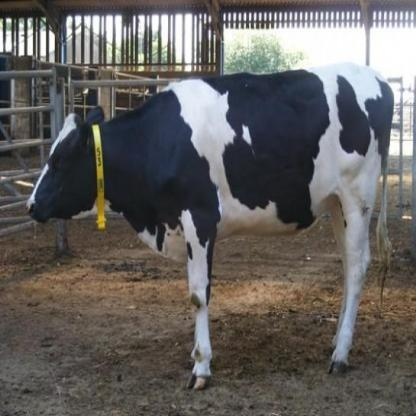cow: (29, 67, 392, 387)
